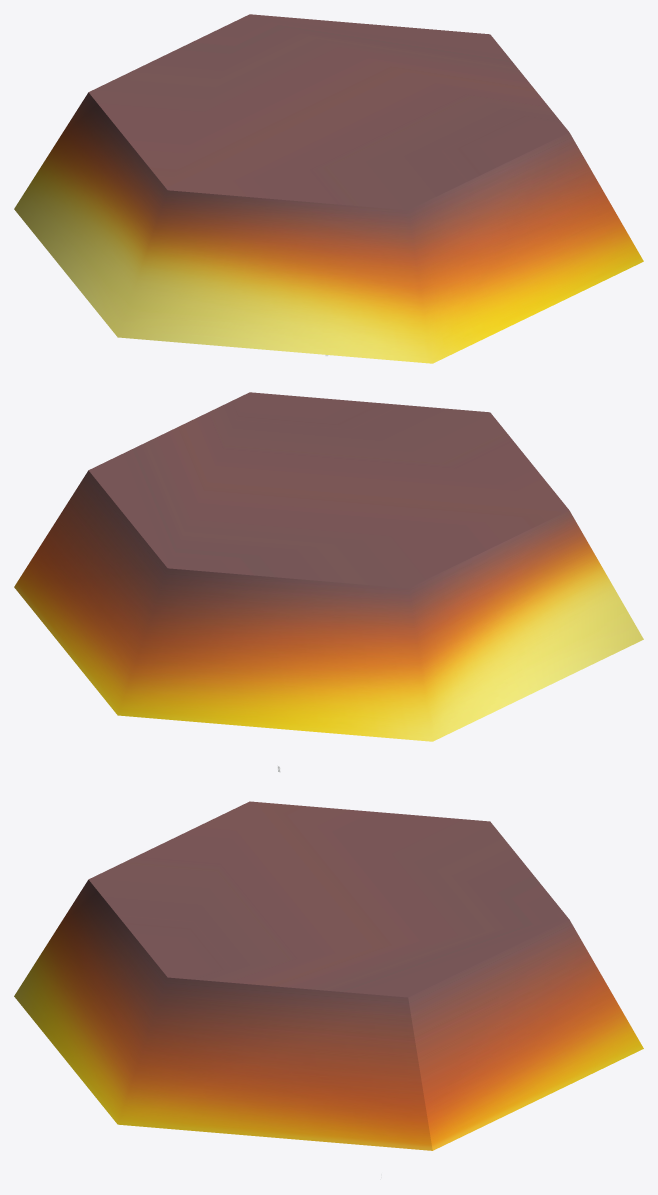
Rendered from magakhan_palace.glb.
3 renders of one model, top to bottom at view 1: azimuth 30°, elevation 25°; view 2: azimuth 150°, elevation 25°; view 3: azimuth 270°, elevation 25°, orthographic.
Visible parts, largest first — view 1: skybox; view 2: skybox; view 3: skybox.
Part boxes in pixels (x1=…): skybox: x1=14, y1=14, x2=643, y2=363; skybox: x1=14, y1=392, x2=643, y2=741; skybox: x1=14, y1=801, x2=643, y2=1150.
Size of the model in its own units: 1819 by 888 by 1886.
Materials: 103 (102 with a texture image).
